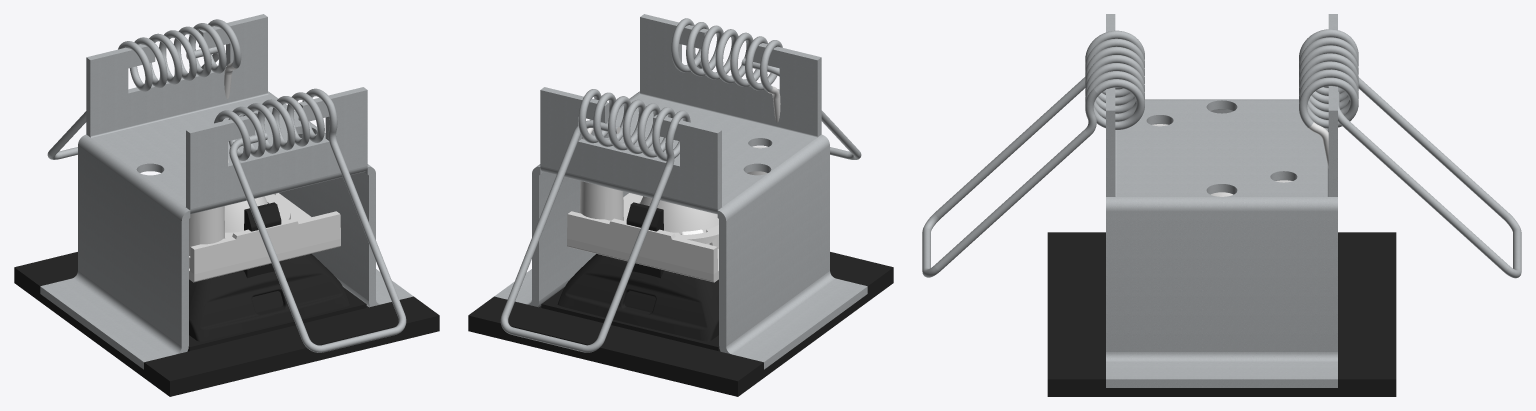
The model's file is PixelEmbutido-sd.glb.
3 renders of one model, left to right at view 1: azimuth 30°, elevation 25°; view 2: azimuth 150°, elevation 25°; view 3: azimuth 270°, elevation 25°, orthographic. The views are drawn at different scales.
Parts seen in each view (by area): view 1: 3DGeom-5, 3DGeom-1 (×2), 3DGeom-6, 3DGeom-7, 3DGeom-10, 3DGeom-9; view 2: 3DGeom-5, 3DGeom-1 (×2), 3DGeom-6, 3DGeom-7, 3DGeom-10, 3DGeom-9; view 3: 3DGeom-5, 3DGeom-6, 3DGeom-1 (×2).
Boxes of the visible parts, x1,y1,x2,y2 form: 3DGeom-5: (40,14,413,369); 3DGeom-1 (×2): (47,19,406,352); 3DGeom-6: (14,252,439,396); 3DGeom-7: (187,202,366,351); 3DGeom-10: (189,193,340,282); 3DGeom-9: (224,196,267,232); 3DGeom-5: (494,14,867,369); 3DGeom-1 (×2): (500,18,861,352); 3DGeom-6: (468,252,893,396); 3DGeom-7: (541,202,720,351); 3DGeom-10: (567,146,767,282); 3DGeom-9: (640,196,718,234); 3DGeom-5: (1106,14,1337,387); 3DGeom-6: (1047,232,1396,396); 3DGeom-1 (×2): (922,29,1521,278).
Bounding box in the file's own units: 0.045 × 0.0383 × 0.0774.
Materials: 3 (1 with a texture image).
